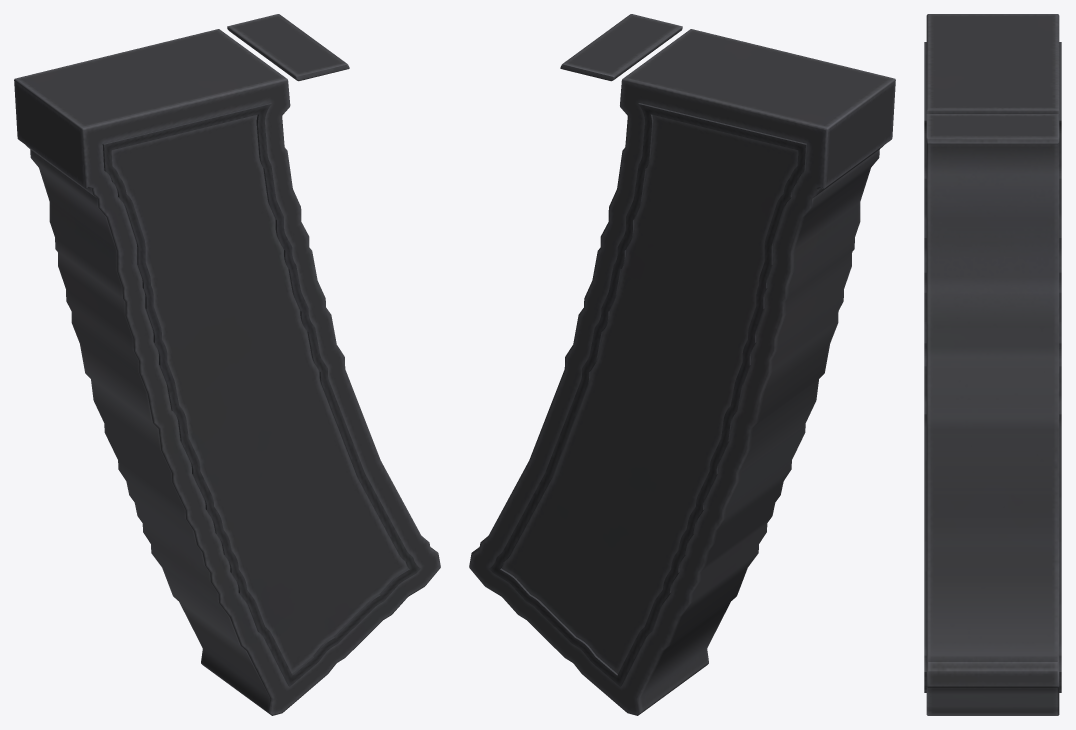
File: AT_AKMag.fbx
3 renders of one model, left to right at view 1: azimuth 30°, elevation 25°; view 2: azimuth 150°, elevation 25°; view 3: azimuth 270°, elevation 25°, orthographic. The views are drawn at different scales.
Parts seen in each view (by area): view 1: AT_AKMag; view 2: AT_AKMag; view 3: AT_AKMag.
Part boxes in pixels (left/top/right/bottom): AT_AKMag: left=14, top=14, right=440, bottom=715; AT_AKMag: left=469, top=14, right=895, bottom=715; AT_AKMag: left=924, top=14, right=1061, bottom=715.
Size of the model in its own units: 0.0659 by 0.1114 by 0.0228.
1 material, 1 textured.
